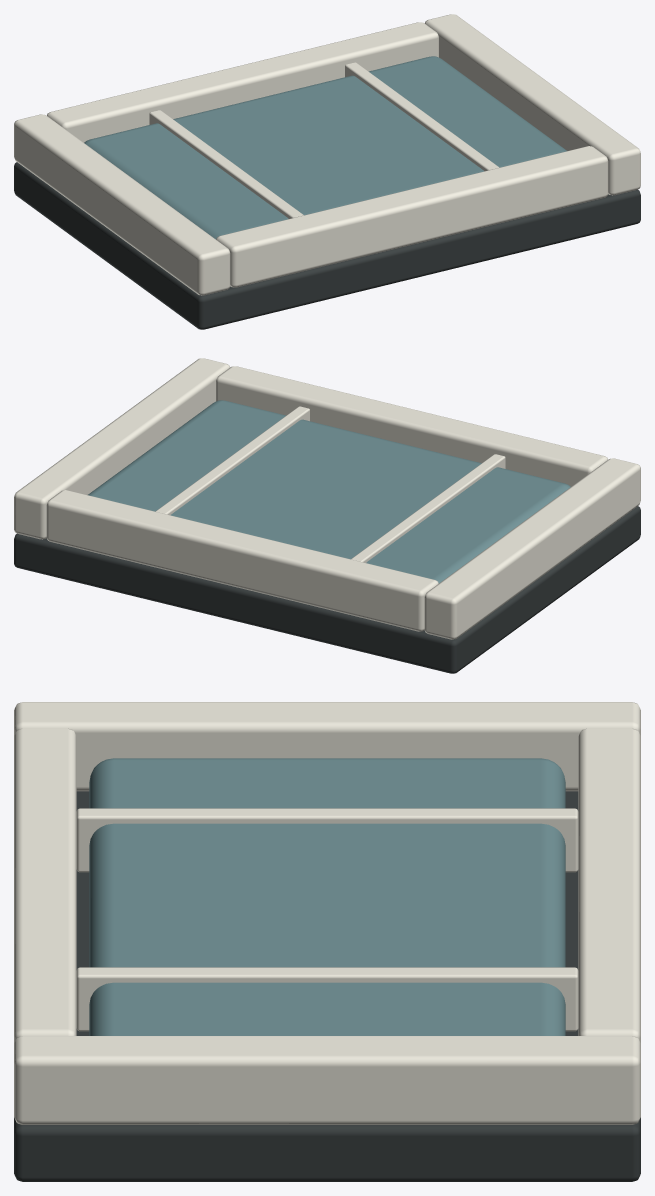
The model's file is optician-and-optical-lens-workshop-optician-and-optica-798014c2__31685.glb.
3 views of the same model, one above another, from view 1: azimuth 30°, elevation 25°; view 2: azimuth 150°, elevation 25°; view 3: azimuth 270°, elevation 25° (orthographic). The views are drawn at different scales.
Parts seen in each view (by area): view 1: optician-and-optical-lens-workshop-spectacle-display-tray; view 2: optician-and-optical-lens-workshop-spectacle-display-tray; view 3: optician-and-optical-lens-workshop-spectacle-display-tray.
Boxes of the visible parts, box(x1,y1,x2,y2) form: optician-and-optical-lens-workshop-spectacle-display-tray: box(14, 14, 640, 329); optician-and-optical-lens-workshop-spectacle-display-tray: box(14, 358, 640, 673); optician-and-optical-lens-workshop-spectacle-display-tray: box(14, 702, 640, 1181).
Size of the model in its own units: 0.34 by 0.0556 by 0.25.
